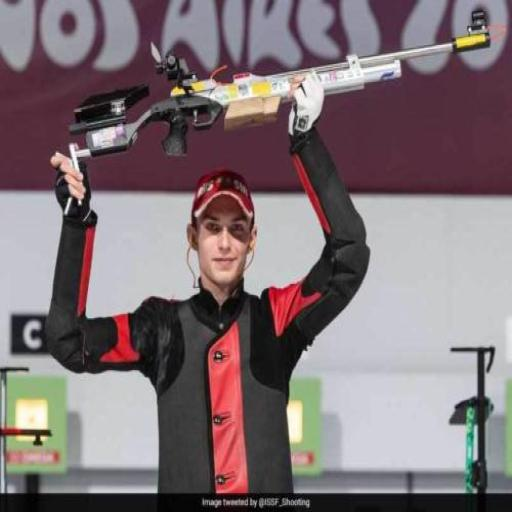shooting: (43, 70, 373, 510)
